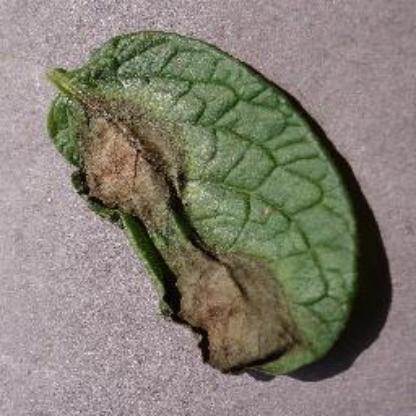Late-Blight: (34, 34, 382, 384)
